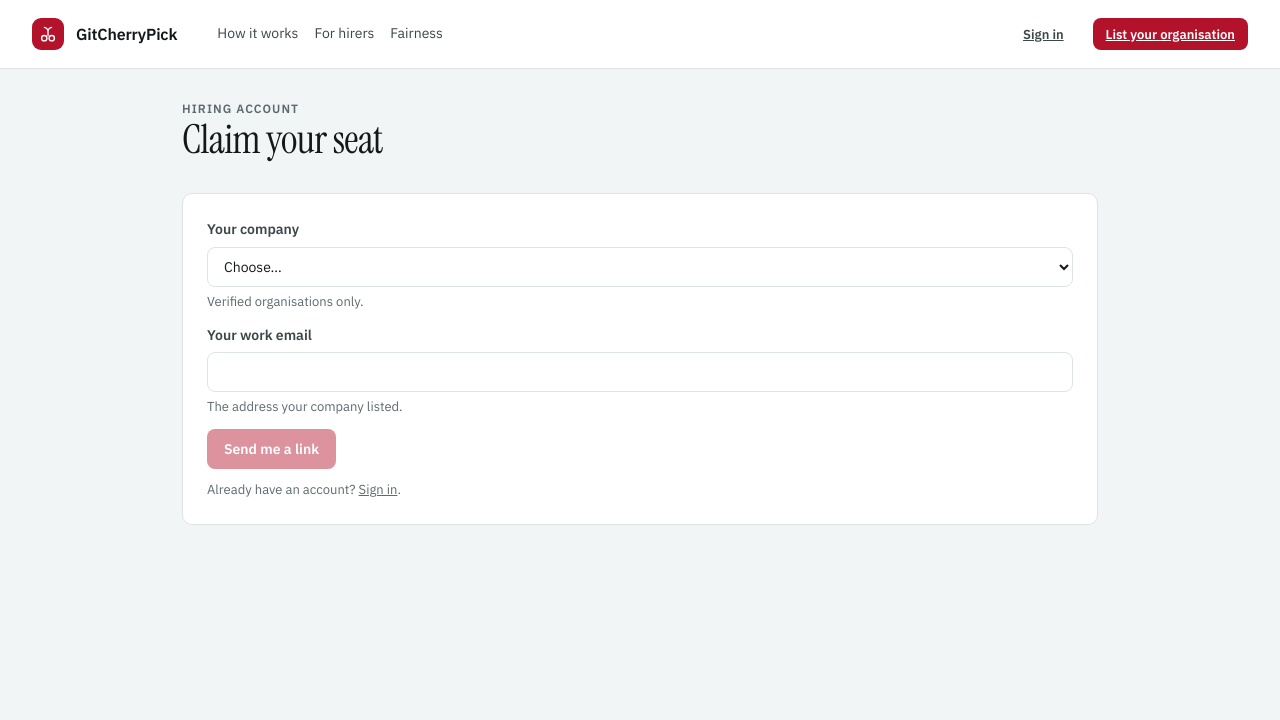
the app renders › never says whether an address was on the roster
The image size is (1280, 720).
Select "Acme" in the dropdown labelled "Your company" at (640, 267), box [207,247,1073,287]
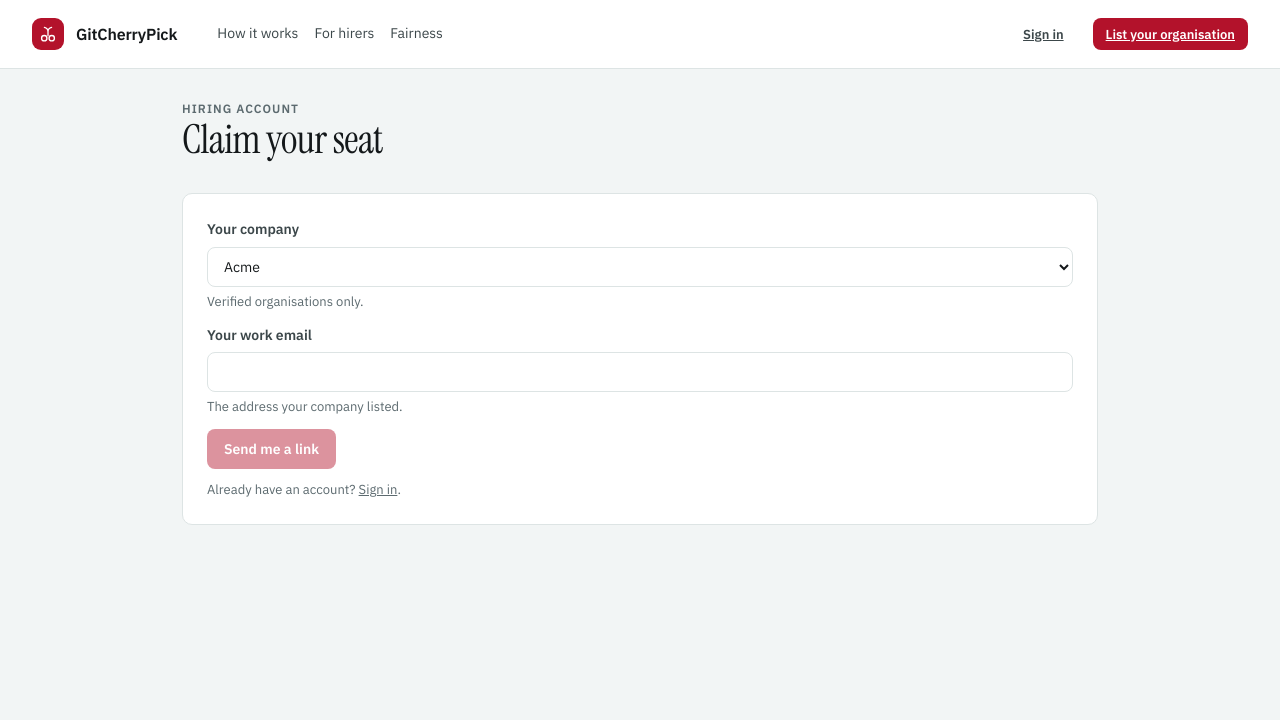
Type "stranger@nowhere.example" into the field labelled "Your work email".
click(640, 372); type("stranger@nowhere.example")  # box [207,352,1073,392]
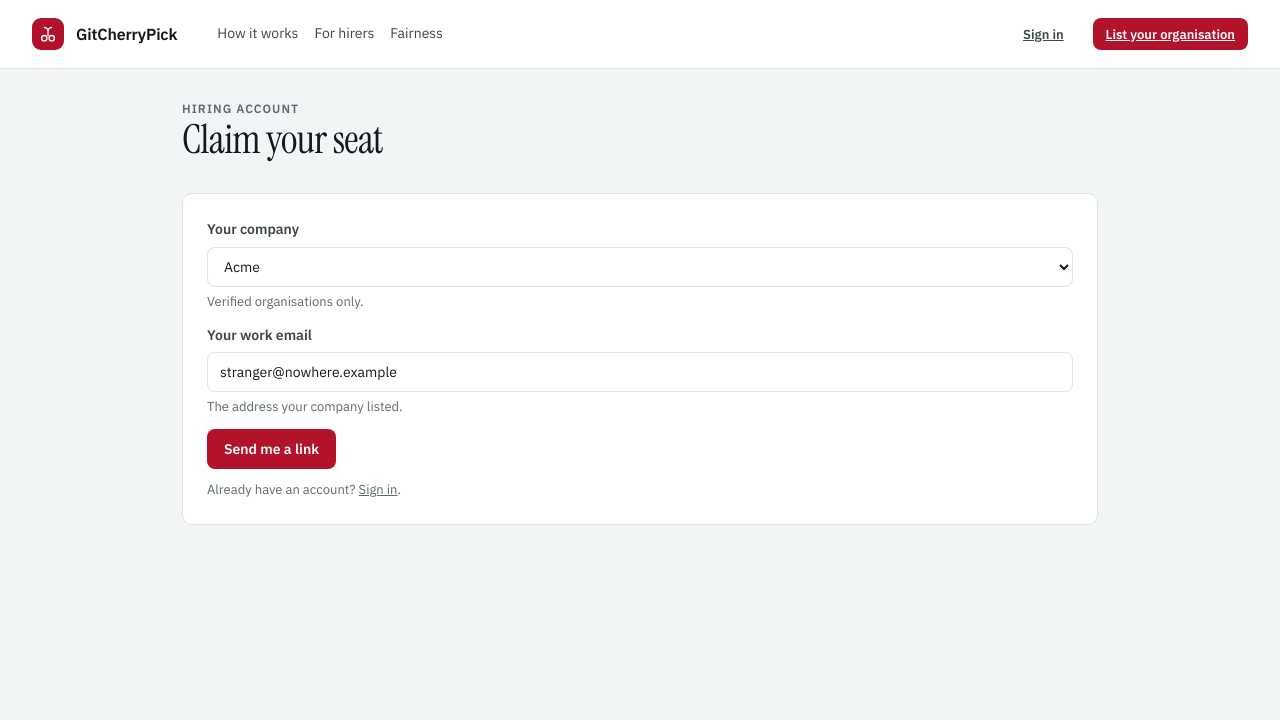
Click the button "Send me a link".
click(272, 449)  # box [207,429,336,469]
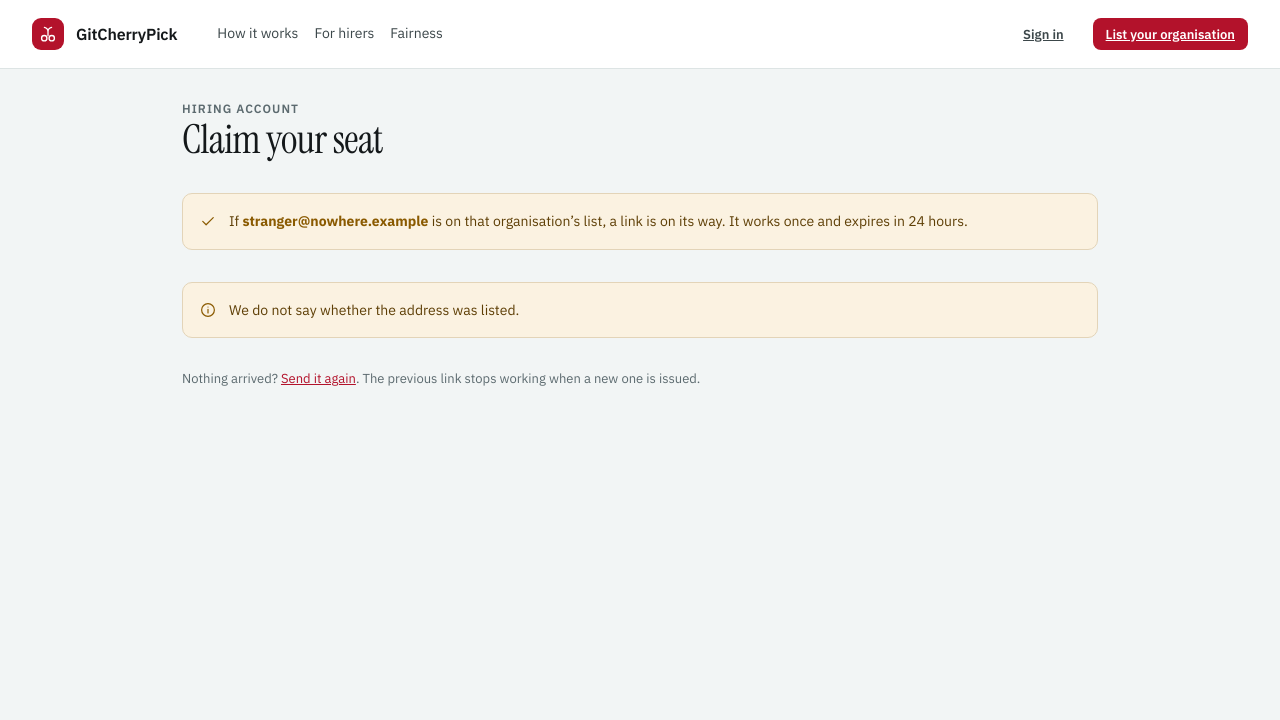
Check: the text "is on that organisation" is shown, box [428,212,968,230]
Check: the text "We do not say whether the address was listed." is shown, box [229,301,519,319]
